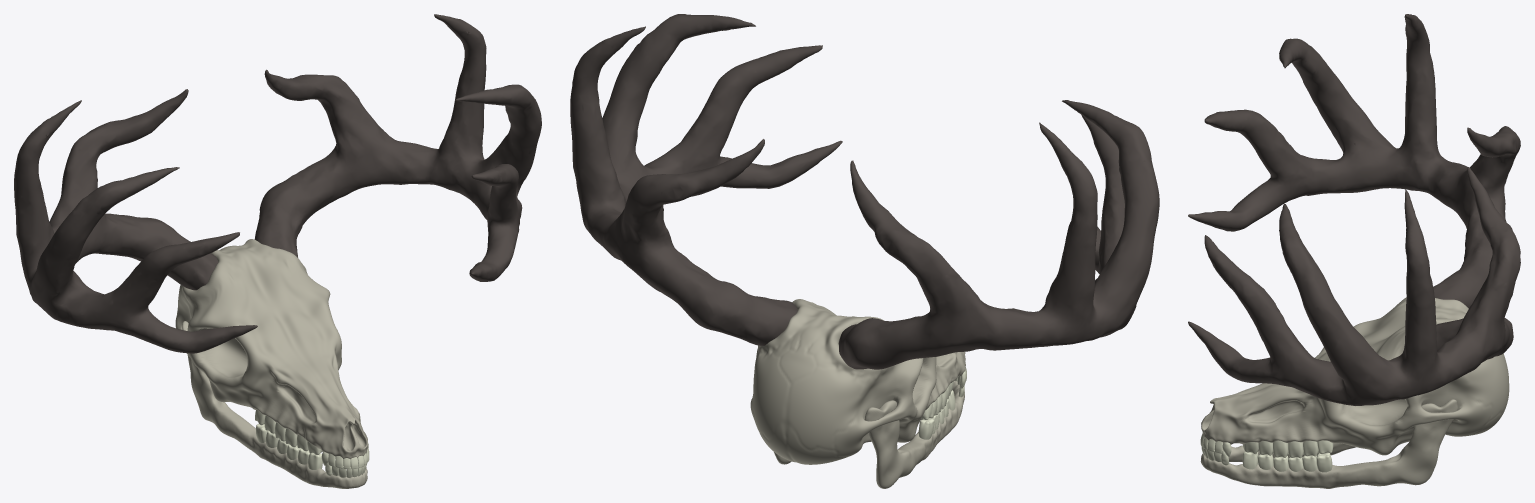
File: wendigo_skull.glb
The picture shows the model from 3 angles, left to right: view 1: azimuth 30°, elevation 25°; view 2: azimuth 150°, elevation 25°; view 3: azimuth 270°, elevation 25°; orthographic projection. The views are drawn at different scales.
Visible parts, largest first — view 1: Cube.001, Cube, Cube.002, teethtop.001, teethtop.016; view 2: Cube.001, Cube, Cube.002, teethtop.016; view 3: Cube.001, Cube, Cube.002, teethtop.016, teethtop.001.
Part boxes in pixels (x1,y1,x2,y2): Cube.001: (14,14,541,353); Cube: (175,239,368,458); Cube.002: (182,321,367,488); teethtop.001: (255,409,369,469); teethtop.016: (256,424,366,477); Cube.001: (570,14,1159,369); Cube: (750,299,965,464); Cube.002: (774,380,964,488); teethtop.016: (918,376,964,439); Cube.001: (1188,14,1520,405); Cube: (1201,297,1509,455); Cube.002: (1200,399,1457,488); teethtop.016: (1201,443,1332,472); teethtop.001: (1200,434,1333,458).
Size of the model in its own units: 7.22 by 5.16 by 4.18.
